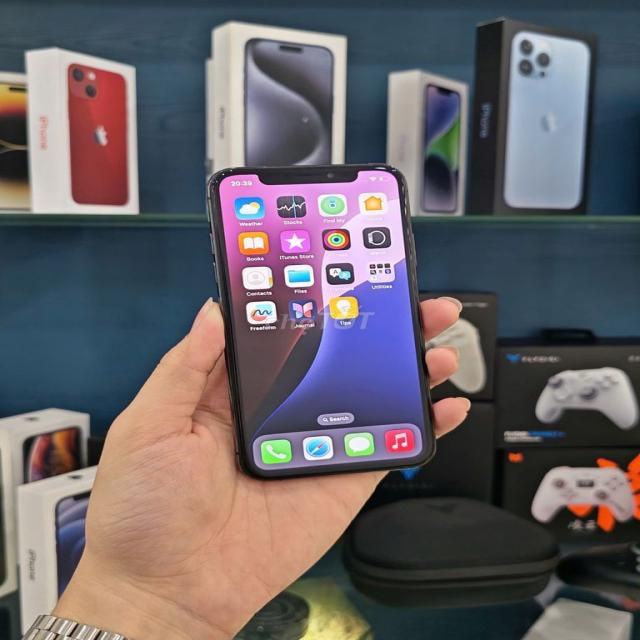gen_x_xs: (184, 148, 446, 495)
